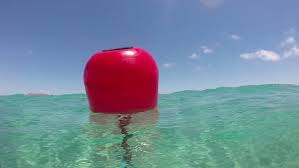buoy: (84, 47, 159, 113)
